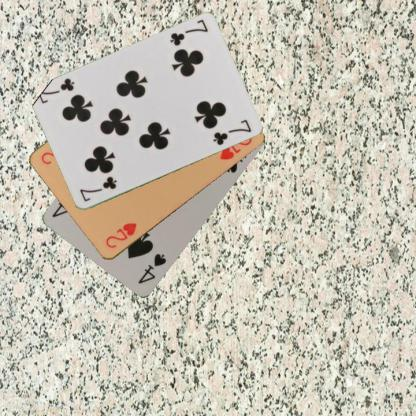2h: (103, 220, 138, 250)
4s: (135, 251, 168, 285)
7c: (167, 17, 209, 48), (77, 174, 118, 203)
